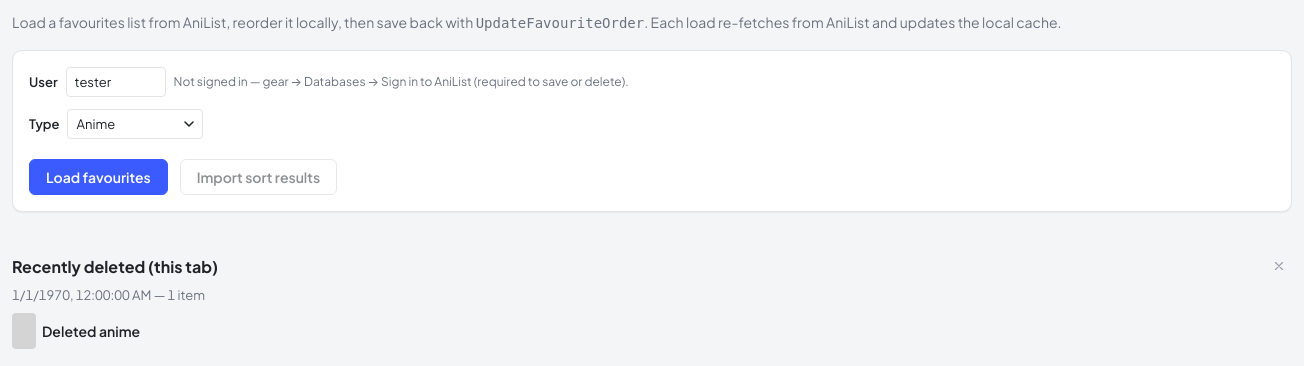
Test: recently deleted history › uses the existing dismiss icon style and clears the visible session history
Expected: the icon is shown, [1273,260,1285,272]
Click the button named "Dismiss recently deleted history" at (1279, 266), box [1266,253,1292,279]
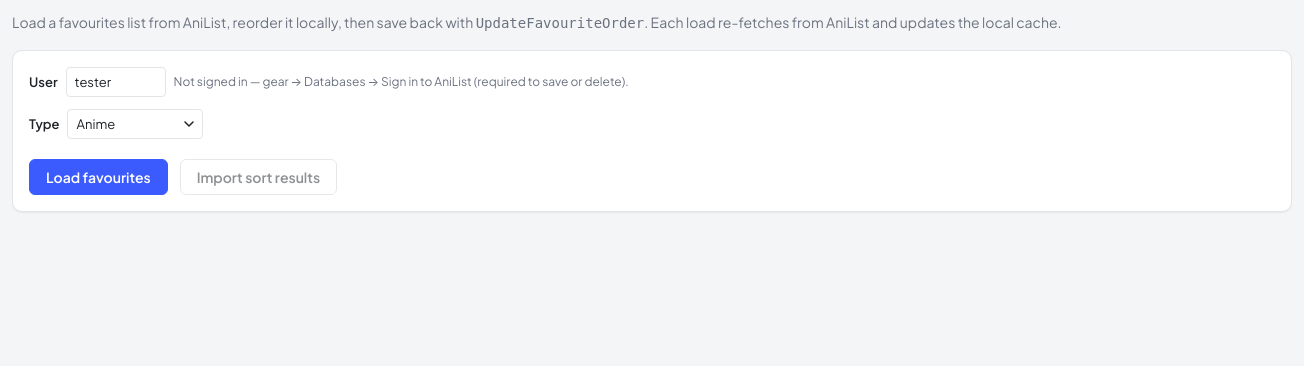
Expected: the element with class "tool-reorder-favourites-recently-deleted" is gone
